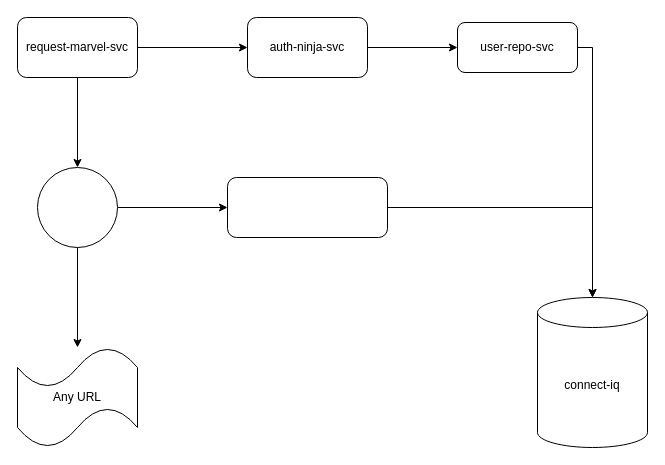
Some shapes in this 665 by 465 pixel diagram are drawn without their labels. The centre of each missing label's shape, as x and y in pixels:
"Call Url and get response" goes at (x=77, y=207).
"request-response-repo-svc" goes at (x=307, y=207).
